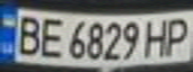2: (103, 18, 127, 62)
6: (63, 17, 87, 61)
8: (84, 18, 106, 61)
9: (121, 18, 145, 61)
B: (9, 11, 45, 56)
E: (33, 15, 66, 58)
H: (139, 16, 175, 57)
P: (160, 14, 193, 56)
